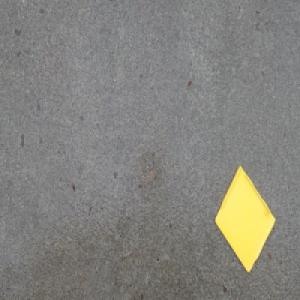PlasticPart: (214, 163, 277, 273)
